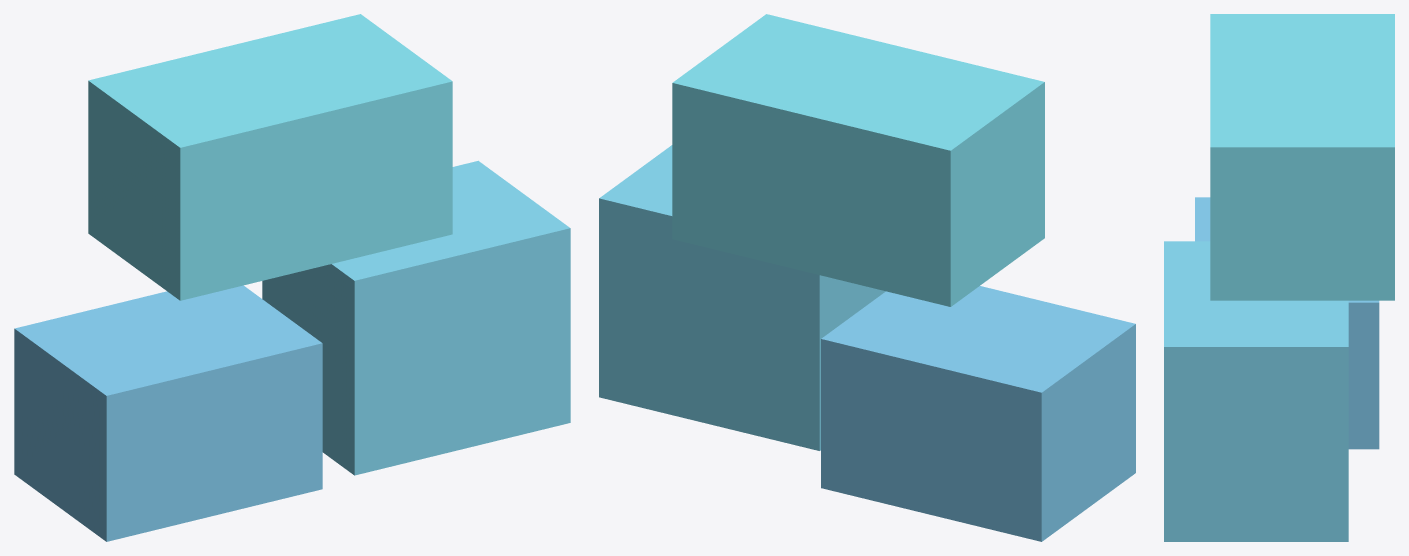
Rendered from erp-node.glb.
The picture shows the model from 3 angles, left to right: view 1: azimuth 30°, elevation 25°; view 2: azimuth 150°, elevation 25°; view 3: azimuth 270°, elevation 25°; orthographic projection. The views are drawn at different scales.
Parts seen in each view (by area): view 1: m2, m0, m1; view 2: m2, m0, m1; view 3: m2, m1, m0.
Boxes of the visible parts, x1,y1,x2,y2 form: m2: (88,14,452,300); m0: (14,285,322,541); m1: (262,160,570,475); m2: (672,14,1044,306); m0: (821,286,1135,541); m1: (599,145,885,450); m2: (1210,14,1394,300); m1: (1164,241,1348,541); m0: (1195,197,1379,449).
Size of the model in its own units: 1.35 by 1.06 by 0.6.
